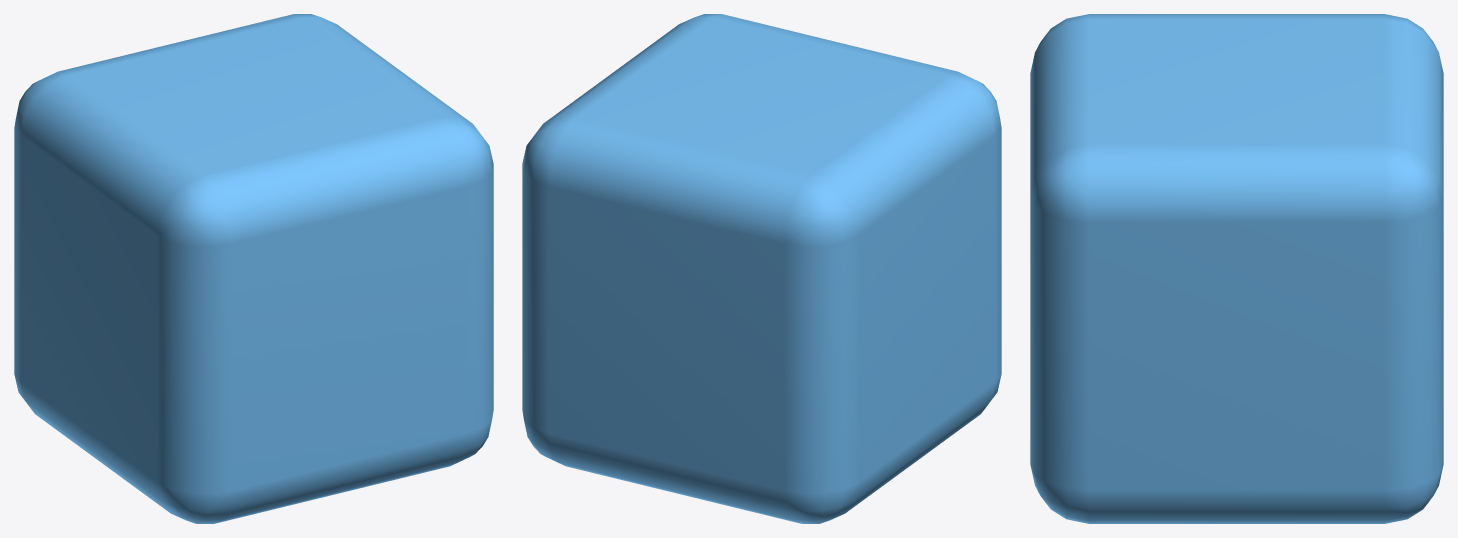
Rendered from WaterBlock.fbx.
3 renders of one model, left to right at view 1: azimuth 30°, elevation 25°; view 2: azimuth 150°, elevation 25°; view 3: azimuth 270°, elevation 25°, orthographic. The views are drawn at different scales.
Parts seen in each view (by area): view 1: Block.001; view 2: Block.001; view 3: Block.001.
Part boxes in pixels (left/top/right/bottom): Block.001: left=14, top=14, right=493, bottom=523; Block.001: left=522, top=14, right=1001, bottom=523; Block.001: left=1030, top=14, right=1443, bottom=523.
Bounding box in the file's own units: 0.42 × 0.42 × 0.42.
